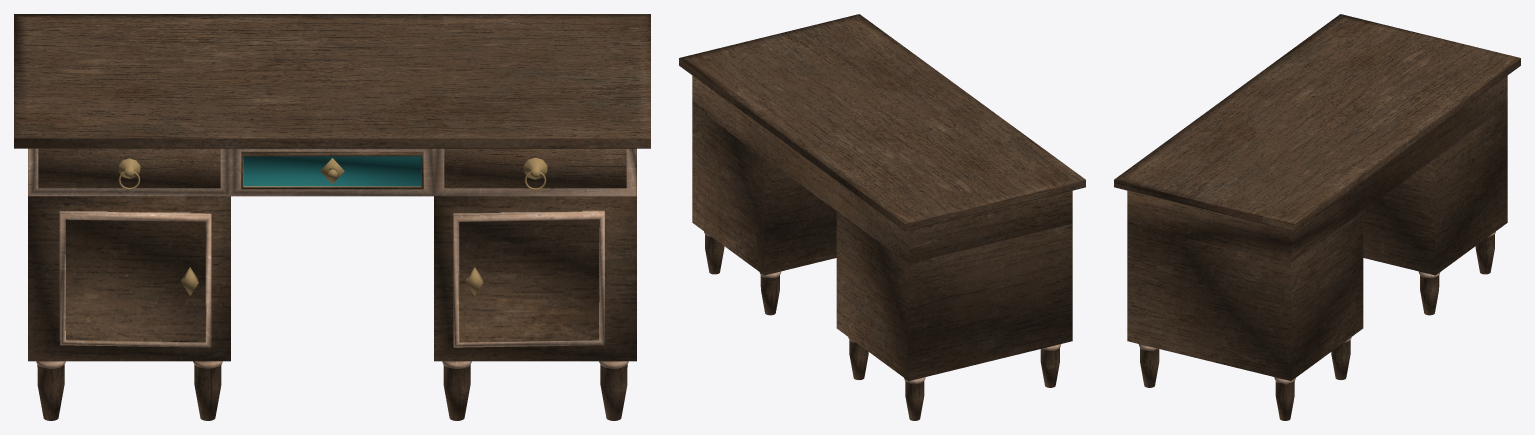
Rendered from szafka3.fbx.
3 views of the same model, side by side, from view 1: azimuth 30°, elevation 25°; view 2: azimuth 150°, elevation 25°; view 3: azimuth 270°, elevation 25° (orthographic). The views are drawn at different scales.
Parts seen in each view (by area): view 1: stół 3_Baked, szafki stołu 3_Baked; view 2: stół 3_Baked; view 3: stół 3_Baked.
Boxes of the visible parts, x1,y1,x2,y2 form: stół 3_Baked: [14, 14, 650, 420]; szafki stołu 3_Baked: [38, 148, 626, 190]; stół 3_Baked: [679, 14, 1085, 420]; stół 3_Baked: [1114, 14, 1520, 420].
Bounding box in the file's own units: 371 × 173 × 304.
2 materials, 2 textured.
